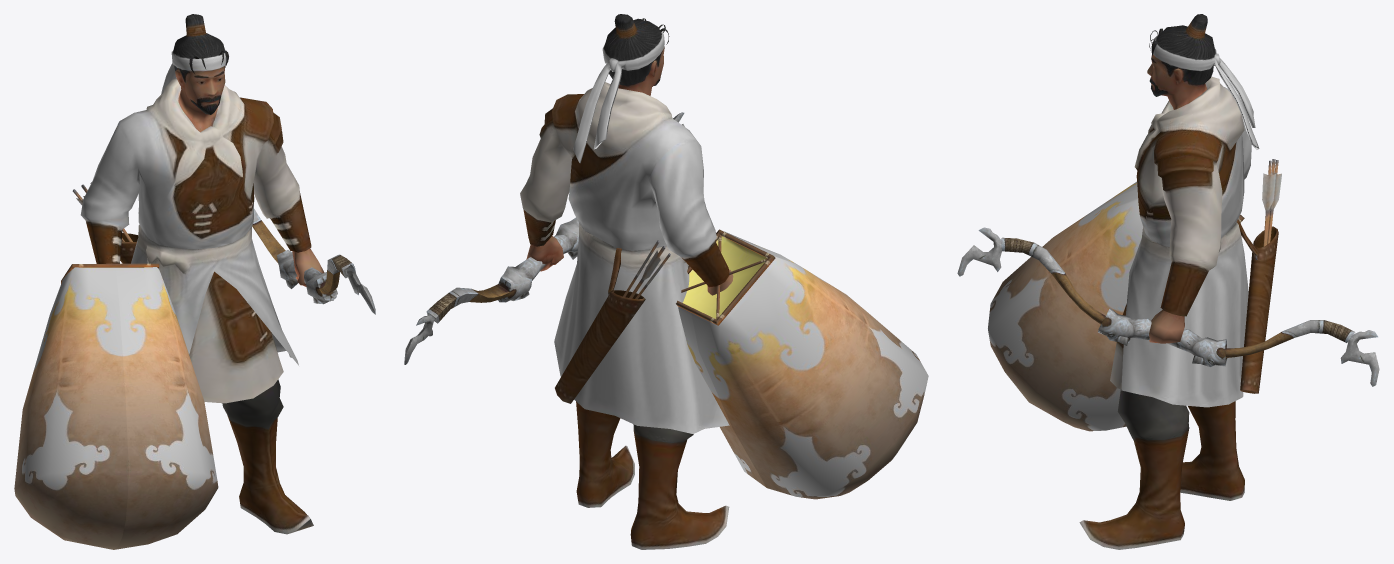
Rendered from 141-pioneer.glb.
3 views of the same model, side by side, from view 1: azimuth 30°, elevation 25°; view 2: azimuth 150°, elevation 25°; view 3: azimuth 270°, elevation 25° (orthographic). The views are drawn at different scales.
Size of the model in its own units: 1.87 by 2.52 by 1.93.
Materials: 3 (3 with a texture image).
